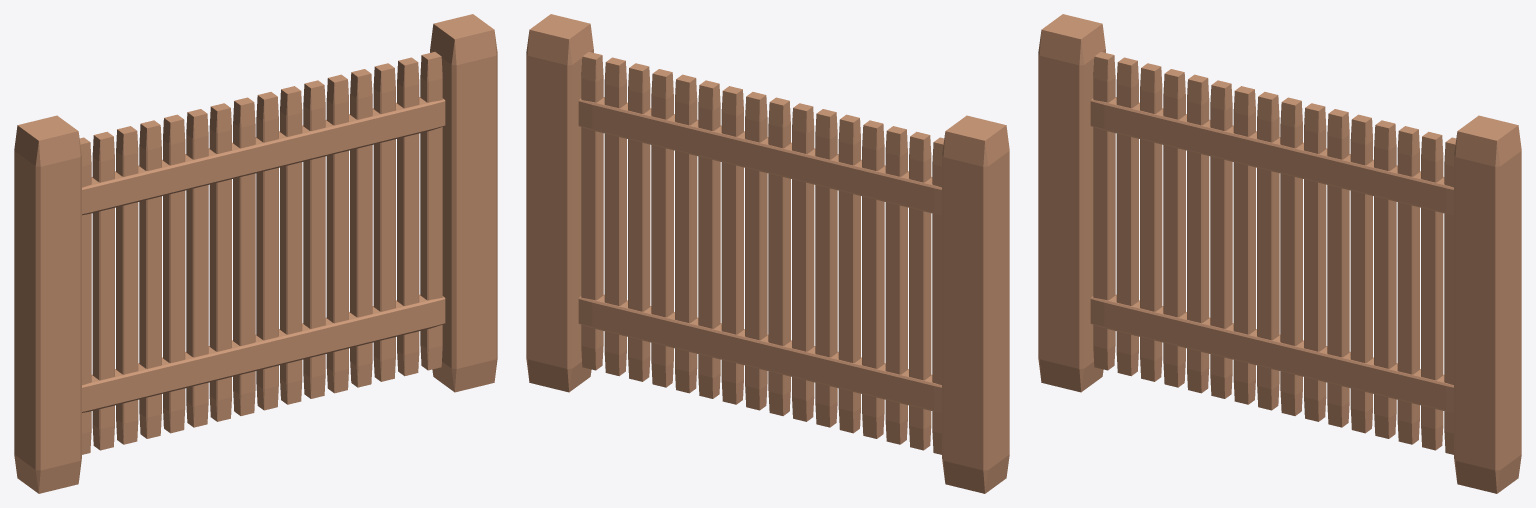
The model's file is b19_shadowbox_privacy_fence.glb.
The picture shows the model from 3 angles, left to right: view 1: azimuth 30°, elevation 25°; view 2: azimuth 150°, elevation 25°; view 3: azimuth 330°, elevation 25°; orthographic projection.
Parts seen in each view (by area): view 1: b19_shadowbox_privacy_fence; view 2: b19_shadowbox_privacy_fence; view 3: b19_shadowbox_privacy_fence.
Part boxes in pixels (x1,y1,x2,y2): b19_shadowbox_privacy_fence: (14,14,497,493); b19_shadowbox_privacy_fence: (526,14,1009,493); b19_shadowbox_privacy_fence: (1038,14,1521,493).
Bounding box in the file's own units: 2.62 × 1.91 × 0.245.
